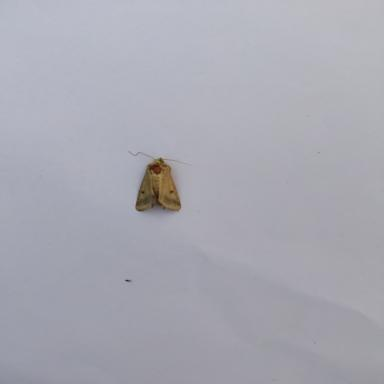abw: (126, 148, 193, 213)
